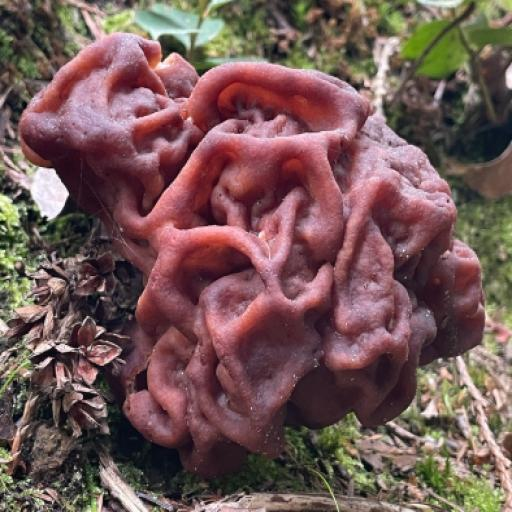mushroom: (23, 24, 487, 458)
